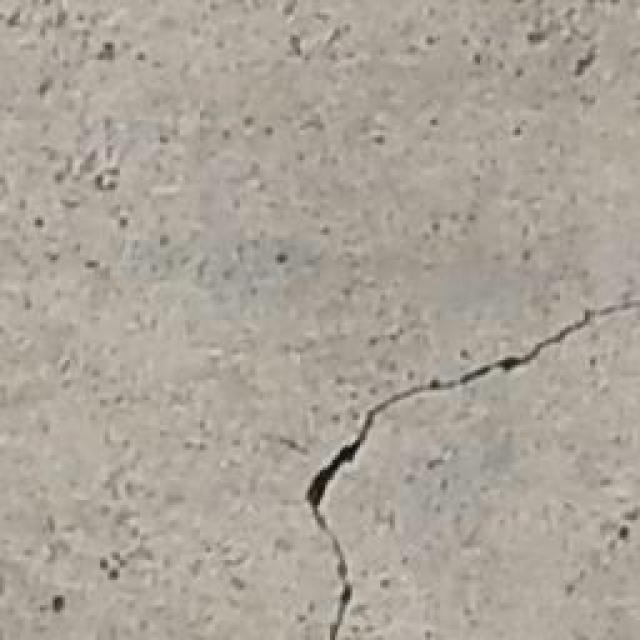concrete-crack: (302, 299, 638, 640)
